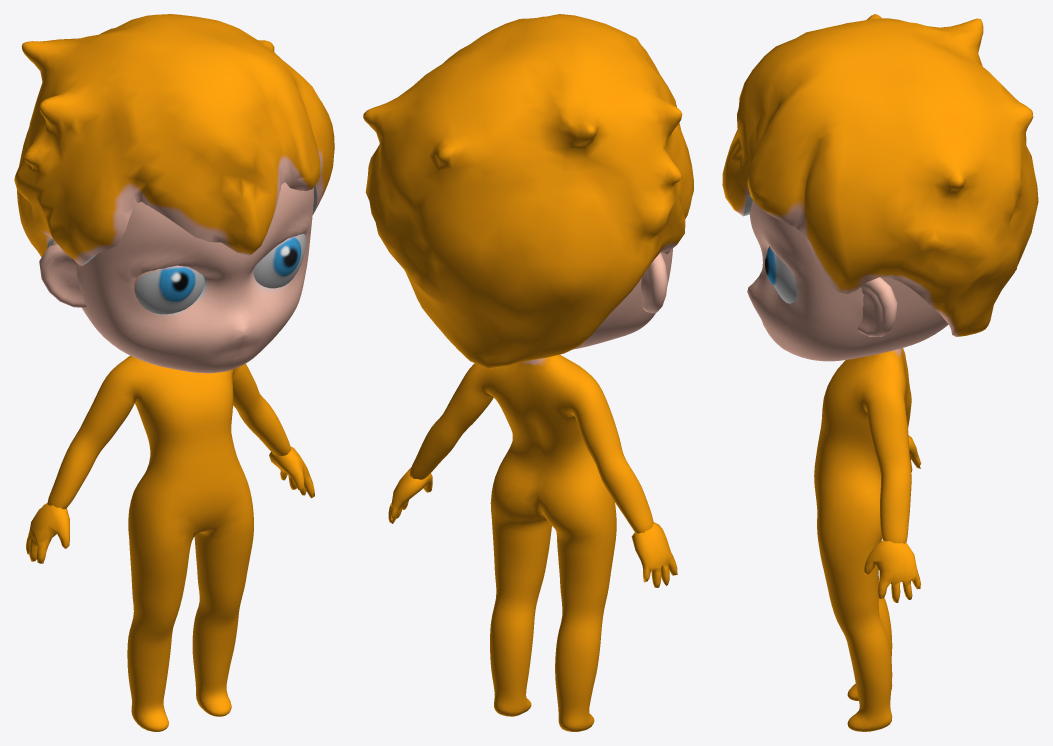
File: MainCharacterUV.fbx
3 renders of one model, left to right at view 1: azimuth 30°, elevation 25°; view 2: azimuth 150°, elevation 25°; view 3: azimuth 270°, elevation 25°, orthographic. The views are drawn at different scales.
Parts seen in each view (by area): view 1: Group39514, Group10213, Group17811; view 2: Group10213, Group39514; view 3: Group10213, Group39514, Group17811.
Boxes of the visible parts, bbox=[...] form: Group39514: bbox=[26, 182, 314, 731]; Group10213: bbox=[14, 14, 334, 265]; Group17811: bbox=[134, 234, 305, 314]; Group10213: bbox=[363, 14, 693, 368]; Group39514: bbox=[388, 248, 677, 731]; Group10213: bbox=[722, 14, 1038, 336]; Group39514: bbox=[747, 200, 948, 731]; Group17811: bbox=[765, 246, 796, 303].
Size of the model in its own units: 2.89 by 6.53 by 2.77.
Materials: 2 (1 with a texture image).
